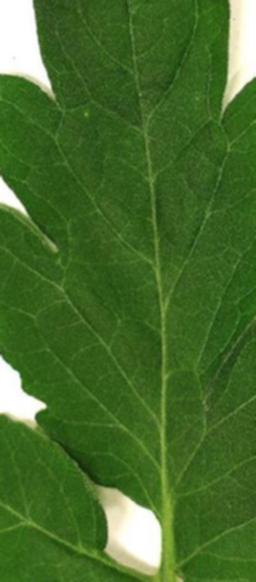Tomato leaf: (0, 0, 256, 582), (0, 381, 162, 582)
